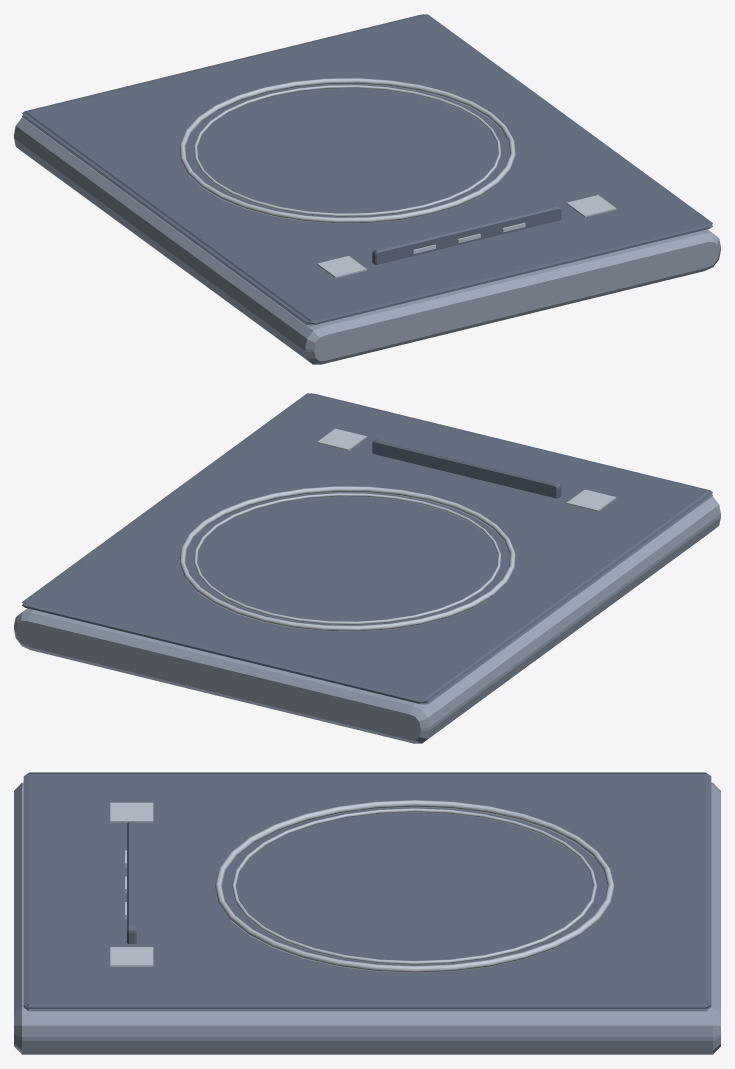
File: induction-hob-lite.glb
The picture shows the model from 3 angles, top to bottom: view 1: azimuth 30°, elevation 25°; view 2: azimuth 150°, elevation 25°; view 3: azimuth 270°, elevation 25°; orthographic projection. The views are drawn at different scales.
Visible parts, largest first — view 1: dark, body, light; view 2: dark, body, light; view 3: dark, body, light.
Boxes of the visible parts, x1,y1,x2,y2 form: dark: [22, 14, 712, 325]; body: [14, 117, 720, 364]; light: [179, 78, 616, 278]; dark: [22, 393, 712, 704]; body: [14, 496, 720, 743]; light: [179, 428, 616, 631]; dark: [23, 772, 711, 1011]; body: [14, 782, 720, 1054]; light: [110, 800, 614, 972].
Bounding box in the file's own units: 0.29 × 0.0375 × 0.36.
